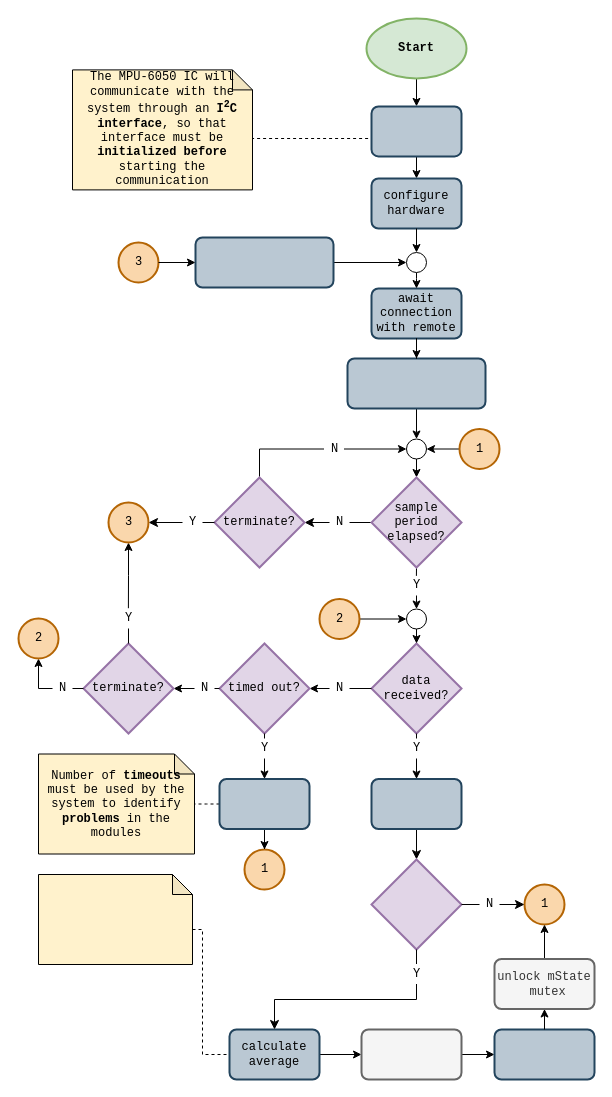
Image size: 612x1097. Some labels were removed from this diagram. Each missing label, with the centre of its shape:
decrement semConfig semaphore: point (416, 383)
increment semConfig semaphore: point (264, 262)
init I2C: point (416, 131)
lock mState mutex: point (411, 1054)
store value: point (416, 804)
The system performs oversampling with averaging: point (115, 919)
timeouts++: point (264, 804)
write state values: point (544, 1054)
x samples taken?: point (416, 904)
